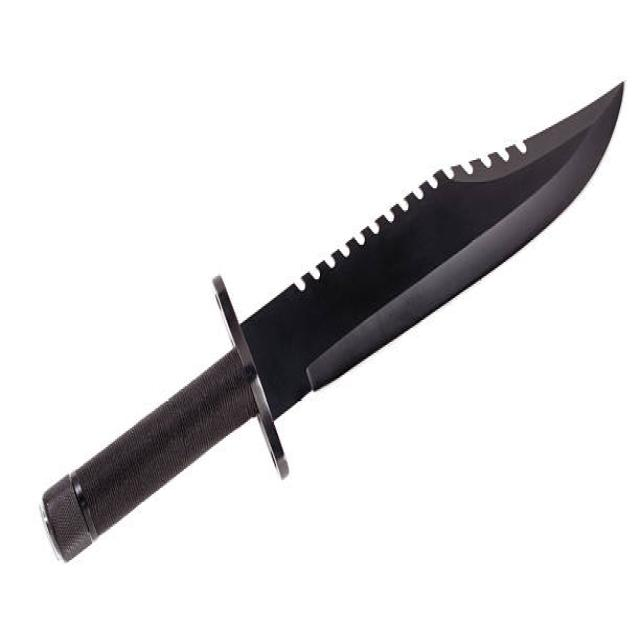knife: (35, 61, 635, 571)
